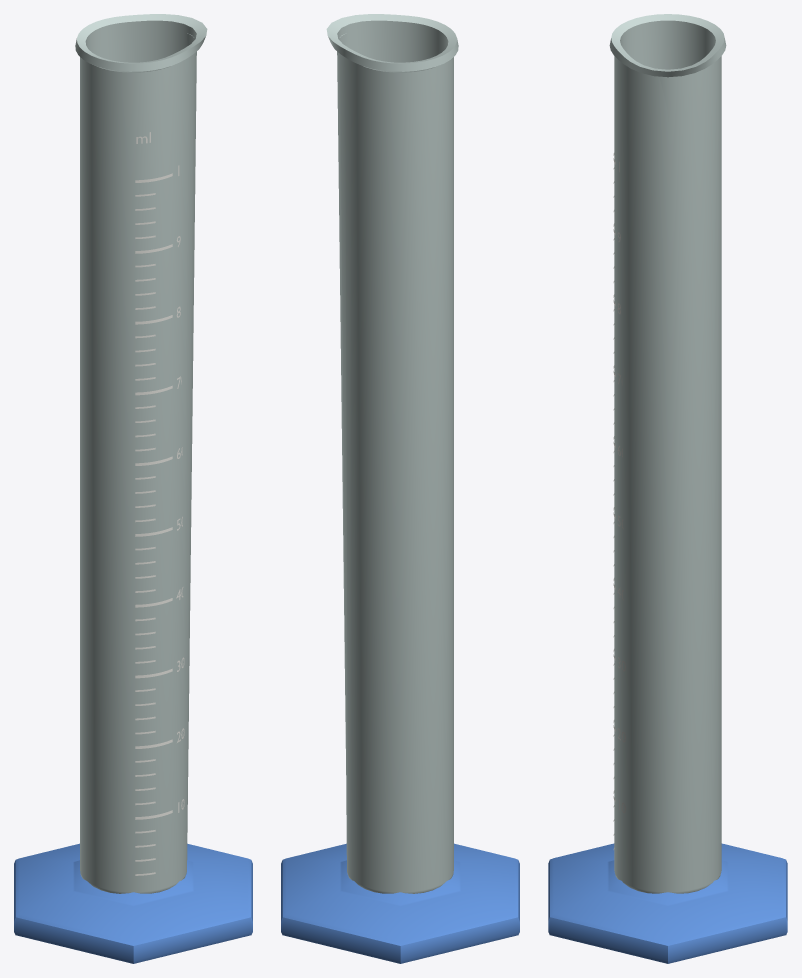
File: graduated_cylinder.glb
The picture shows the model from 3 angles, left to right: view 1: azimuth 30°, elevation 25°; view 2: azimuth 150°, elevation 25°; view 3: azimuth 270°, elevation 25°; orthographic projection.
Visible parts, largest first — view 1: Glass, Base, Marks; view 2: Glass, Base; view 3: Glass, Base, Marks.
Boxes of the visible parts, x1=… form: Glass: x1=75, y1=14, x2=207, y2=893; Base: x1=14, y1=843, x2=252, y2=963; Marks: x1=135, y1=132, x2=184, y2=875; Glass: x1=326, y1=14, x2=458, y2=893; Base: x1=281, y1=843, x2=519, y2=963; Glass: x1=609, y1=14, x2=726, y2=893; Base: x1=548, y1=843, x2=787, y2=963; Marks: x1=613, y1=153, x2=625, y2=849.
Bounding box in the file's own units: 0.072 × 0.25 × 0.0624.
